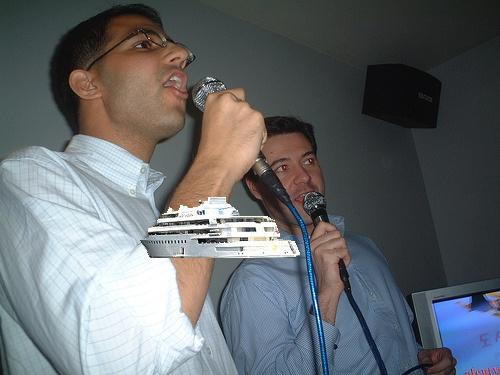tampered: (141, 198, 300, 258)
